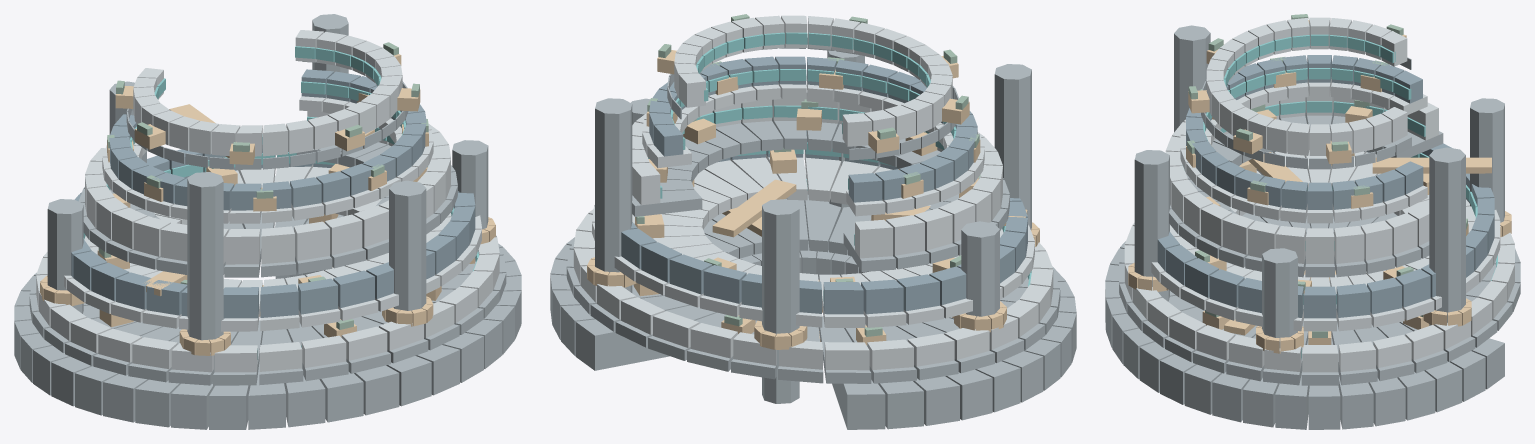
Rendered from a19_a_civic_caldera.glb.
The picture shows the model from 3 angles, left to right: view 1: azimuth 30°, elevation 25°; view 2: azimuth 150°, elevation 25°; view 3: azimuth 270°, elevation 25°; orthographic projection. The views are drawn at different scales.
Bounding box in the file's own units: 226 × 118 × 181.
